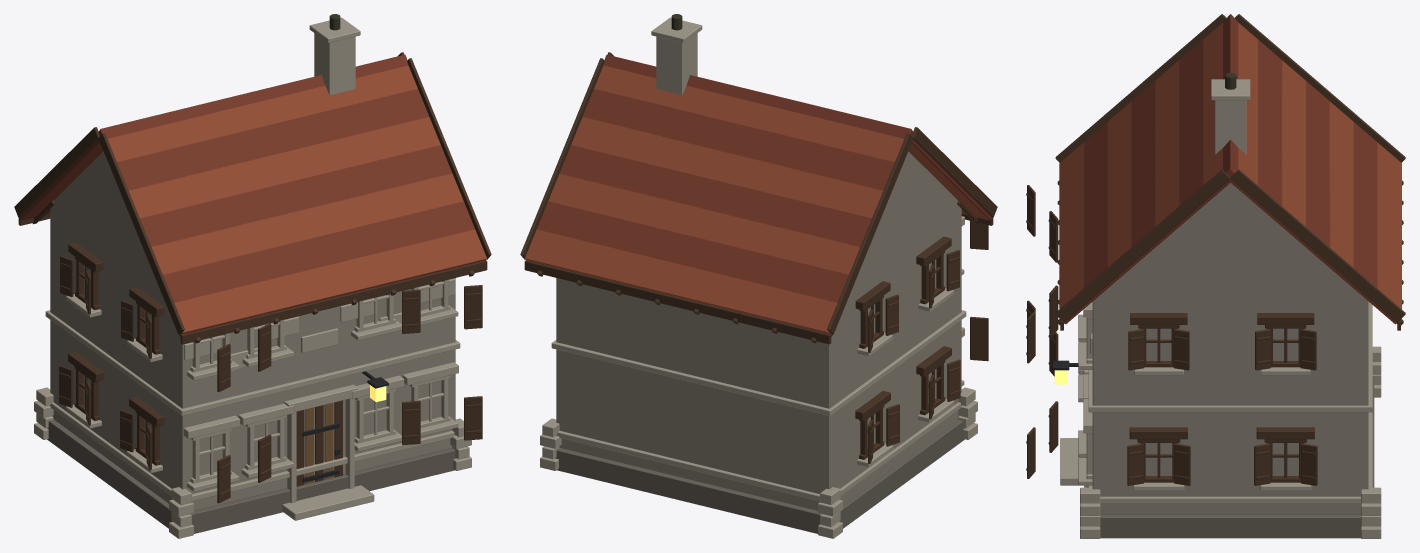
The model's file is V_Maison_B.glb.
The picture shows the model from 3 angles, left to right: view 1: azimuth 30°, elevation 25°; view 2: azimuth 150°, elevation 25°; view 3: azimuth 270°, elevation 25°; orthographic projection. The views are drawn at different scales.
Parts seen in each view (by area): view 1: V_Maison_B; view 2: V_Maison_B; view 3: V_Maison_B.
Part boxes in pixels (bbox=[...]): V_Maison_B: bbox=[14, 14, 491, 538]; V_Maison_B: bbox=[520, 14, 997, 538]; V_Maison_B: bbox=[1026, 14, 1405, 538].
Bounding box in the file's own units: 7.02 × 9.15 × 7.16.
